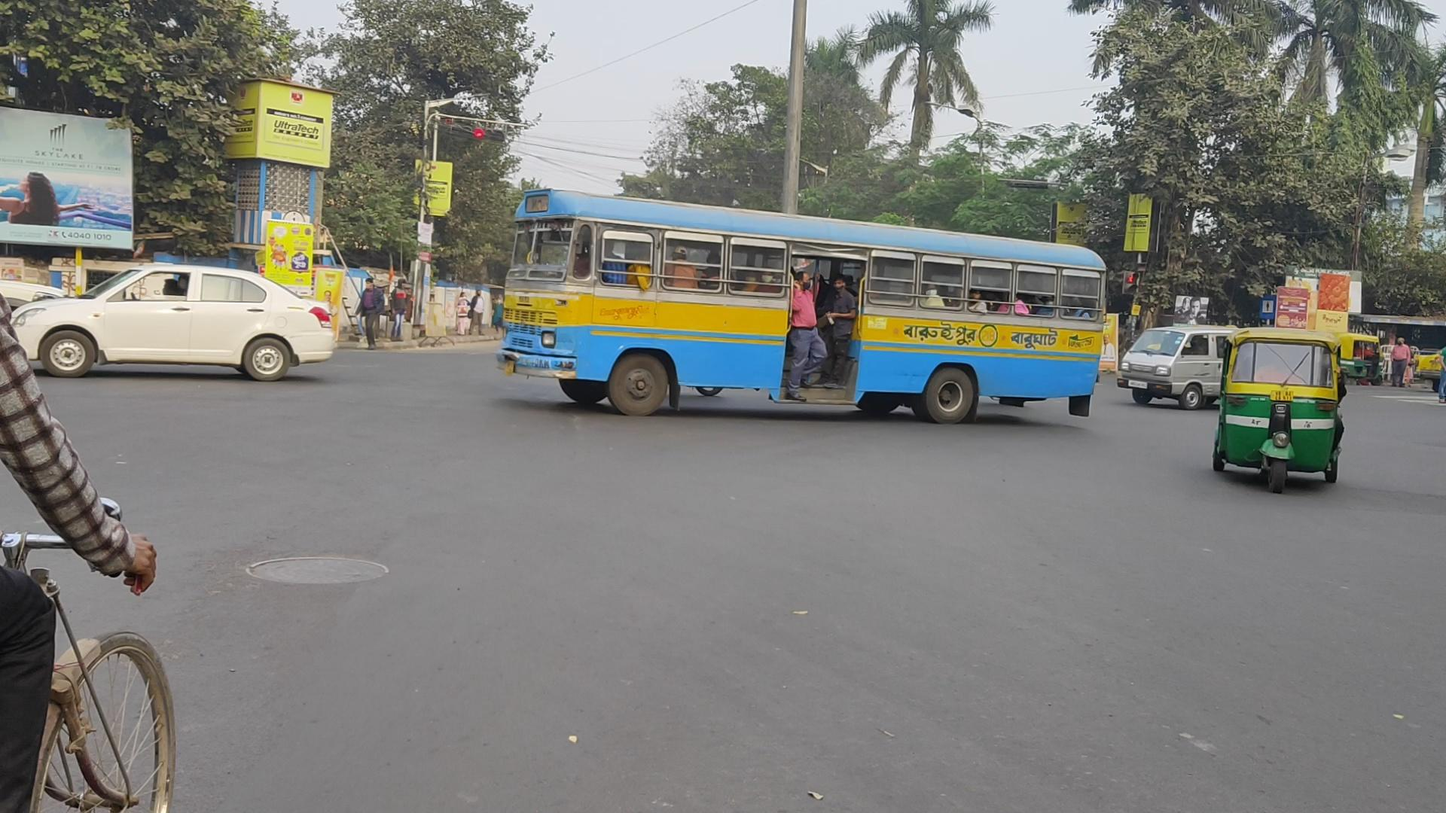Auto: (1213, 327, 1347, 493), (1333, 331, 1384, 387)
Bus: (496, 188, 1106, 423)
car: (6, 263, 333, 382)
van: (1117, 324, 1252, 410)
